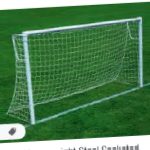goals: (6, 15, 149, 124)
